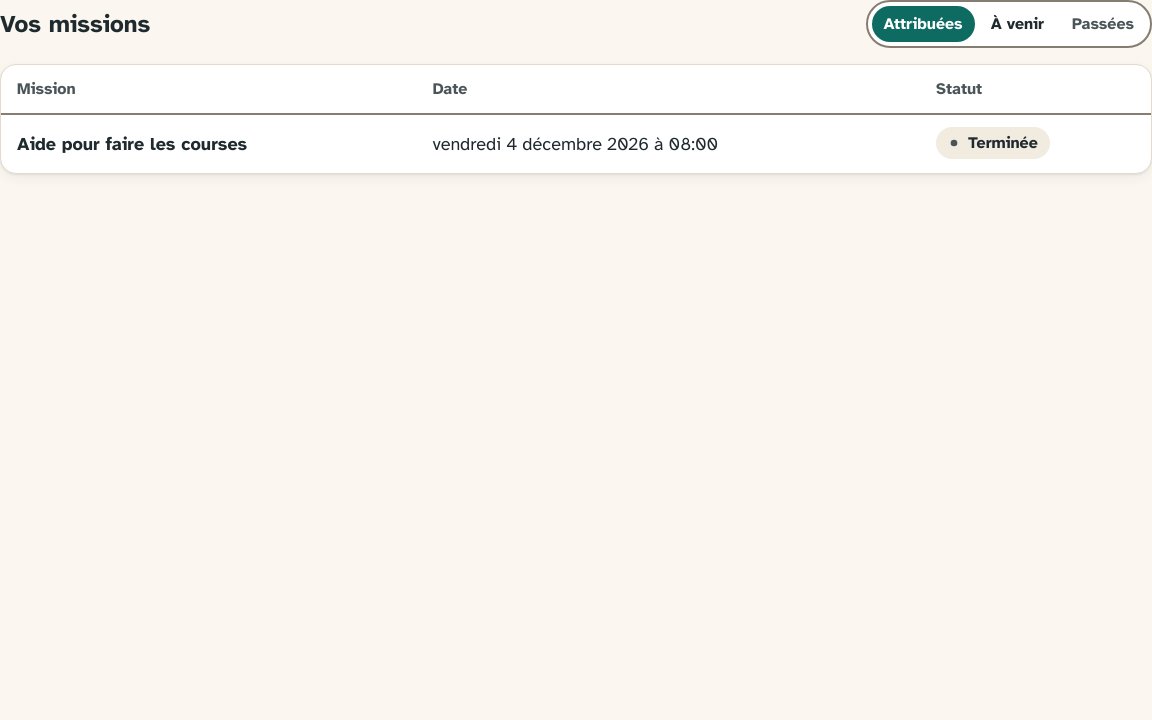
Test: PublishedMissionList › reviews the student of a mission completed less than 14 days ago
Click the row that starts with "Aide pour faire les courses" at (576, 144), box top-left (1, 115), bottom-right (1151, 173)
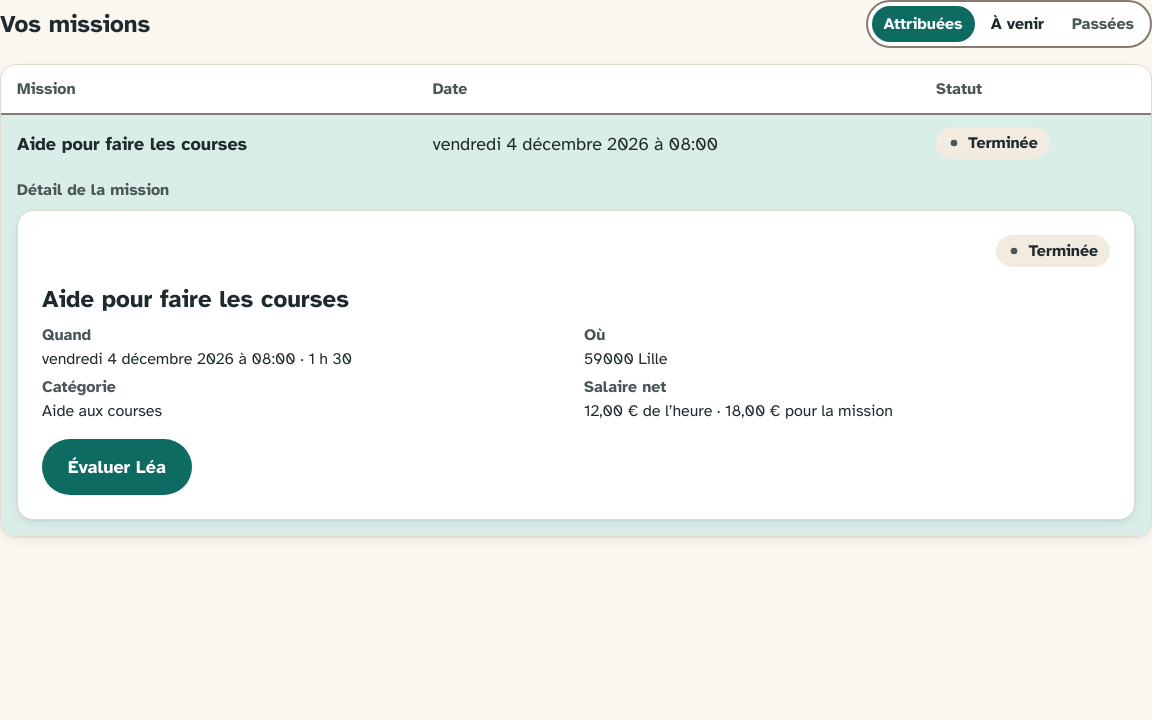
Click the button "Évaluer Léa" at (117, 467), box top-left (42, 439), bottom-right (192, 495)
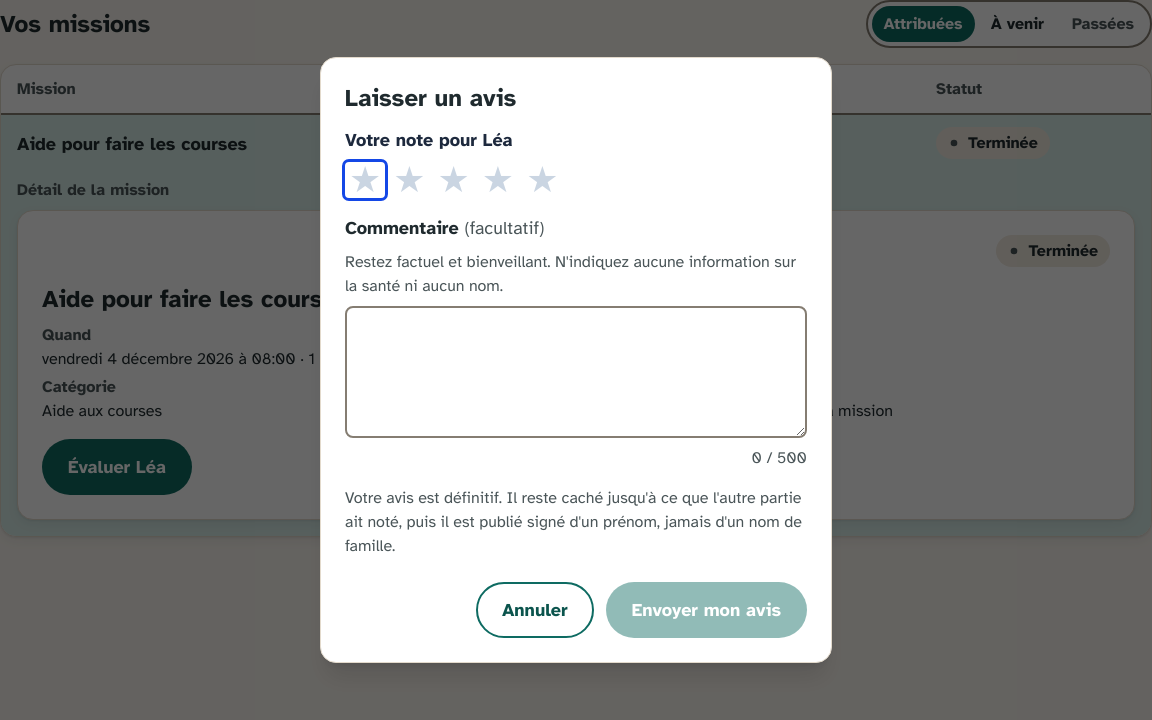
Click the 4th radio button labelled "★" at (498, 180), box top-left (478, 162), bottom-right (518, 198)
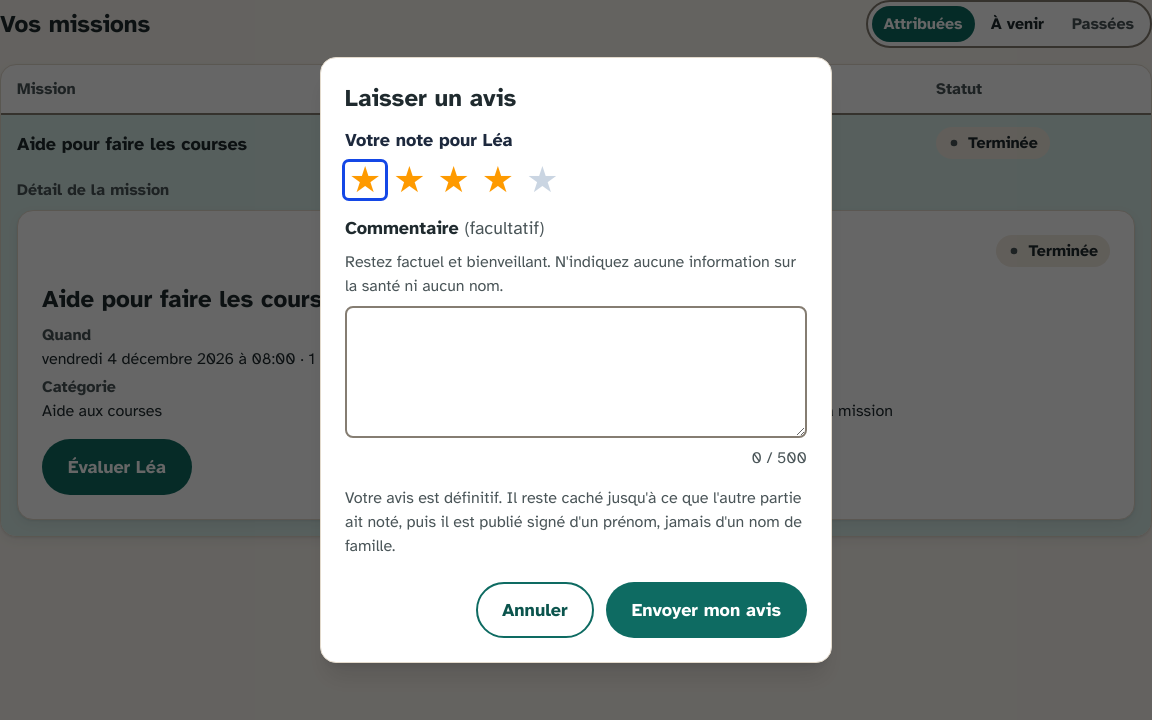
Click the button "Envoyer mon avis" at (706, 610), box top-left (606, 582), bottom-right (807, 638)
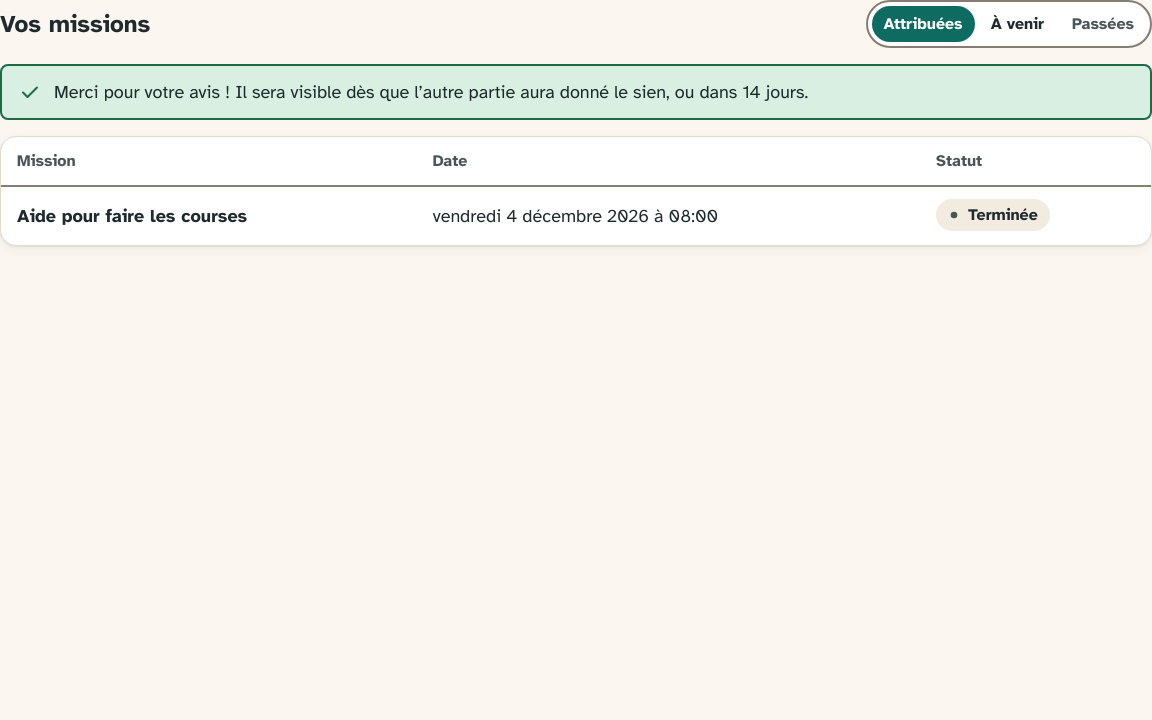
Expected: the text "Merci pour votre avis" is shown, top-left (54, 81), bottom-right (808, 103)
